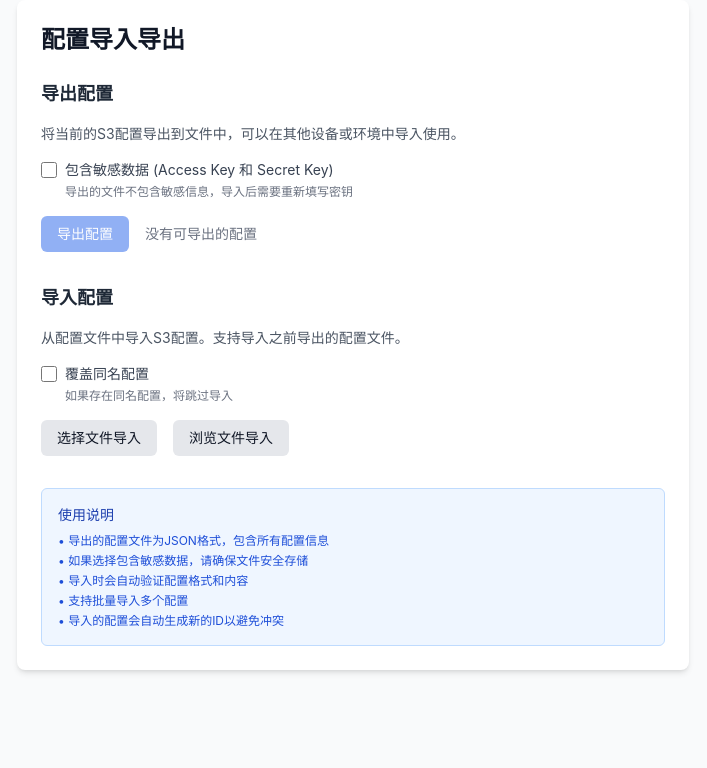
Test case: ConfigImportExport › Import Functionality › should handle import failure
Click the button "浏览文件导入": (231, 438) x1=173 y1=420 x2=289 y2=456
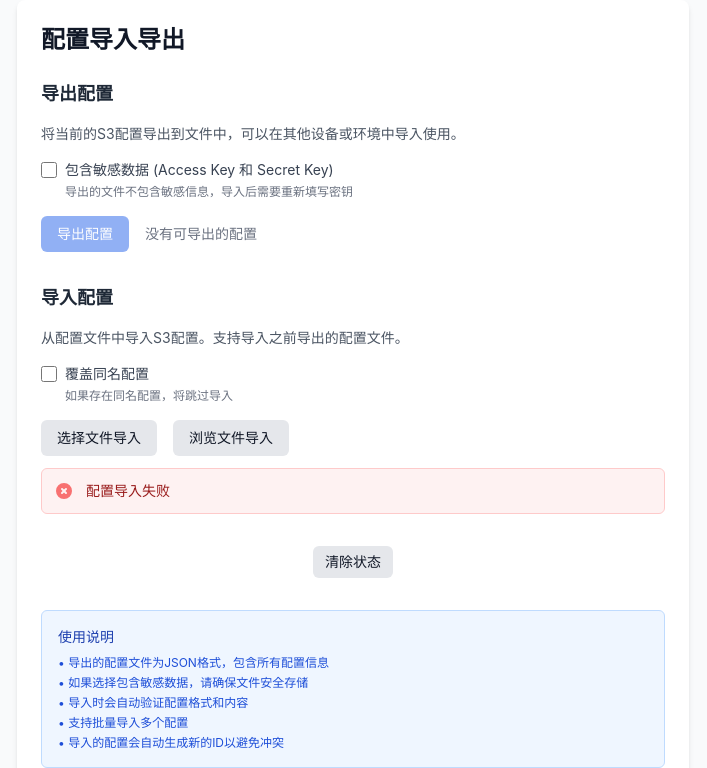
Expected: the text "配置导入失败" is shown, x1=86 y1=481 x2=170 y2=501
